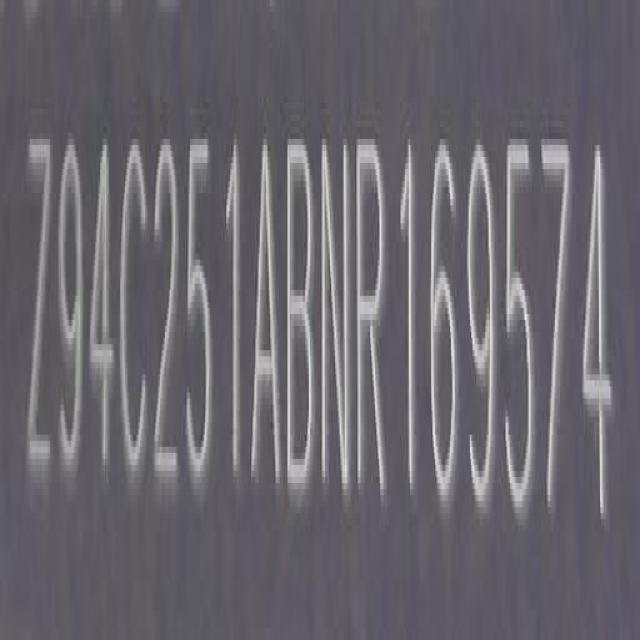1: (399, 129, 421, 524), (224, 134, 243, 498)
2: (154, 130, 182, 493)
4: (582, 139, 613, 538), (89, 132, 116, 489)
5: (506, 129, 538, 532), (189, 127, 217, 490)
6: (428, 136, 460, 519)
7: (544, 126, 576, 537)
9: (466, 133, 499, 524), (58, 131, 84, 489)
A: (251, 130, 283, 500)
B: (286, 130, 318, 503)
C: (118, 125, 150, 481)
N: (321, 128, 352, 506)
R: (356, 128, 390, 516)
Z: (25, 125, 53, 492)
